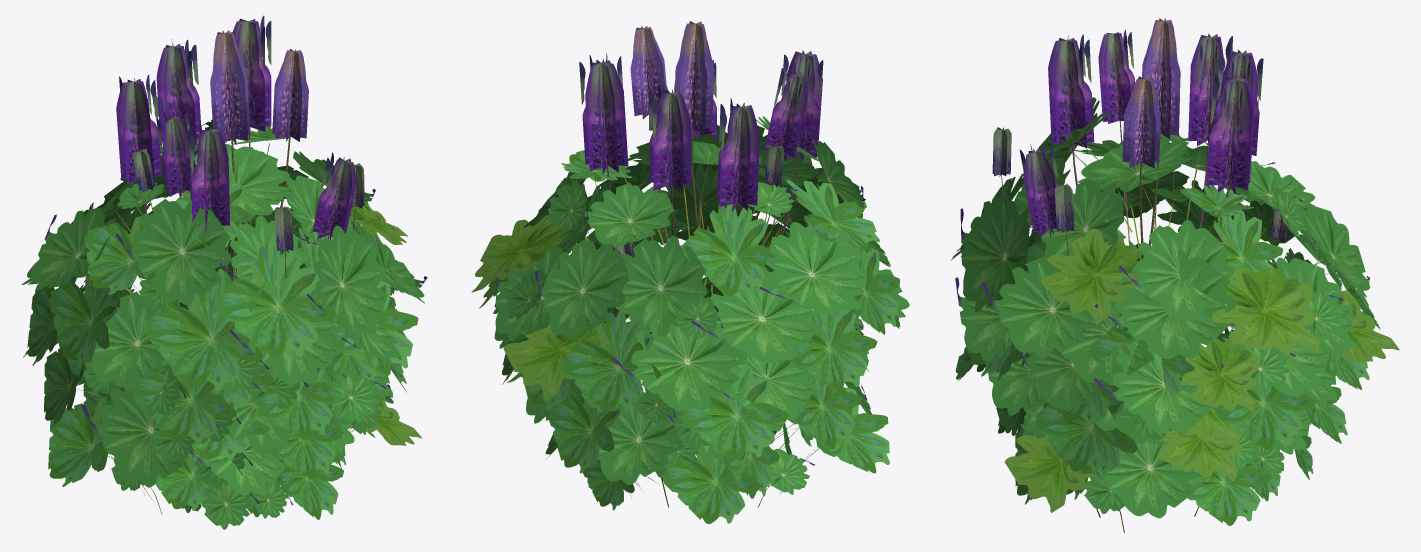
The model's file is Lupine_Plant.glb.
3 views of the same model, side by side, from view 1: azimuth 30°, elevation 25°; view 2: azimuth 150°, elevation 25°; view 3: azimuth 270°, elevation 25° (orthographic). The views are drawn at different scales.
Parts seen in each view (by area): view 1: unnamed; view 2: unnamed; view 3: unnamed.
Boxes of the visible parts, bbox=[...] form: unnamed: bbox=[22, 15, 427, 529]; unnamed: bbox=[471, 21, 909, 523]; unnamed: bbox=[950, 18, 1399, 532].
Bounding box in the file's own units: 76.55 × 88.77 × 77.27.
1 material, 1 textured.
